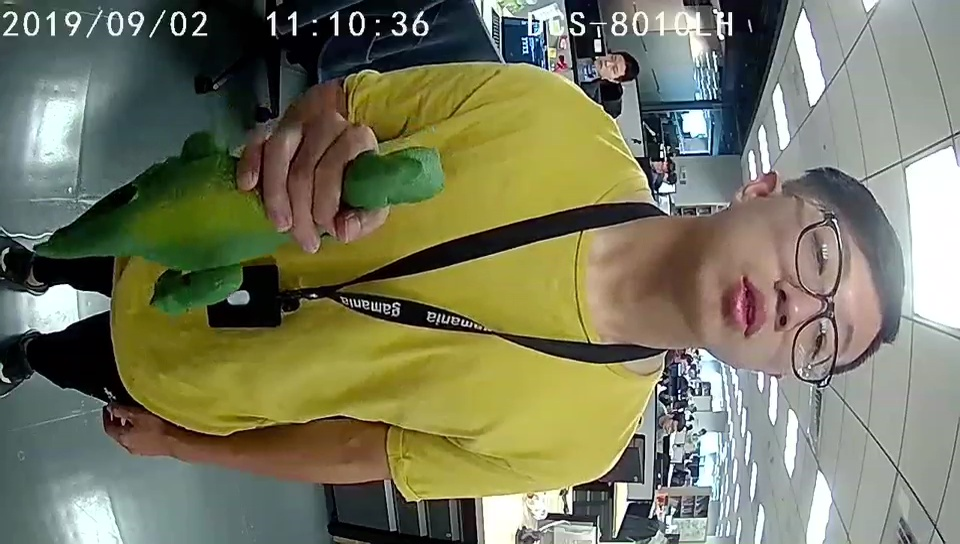rex: (150, 144, 446, 314)
